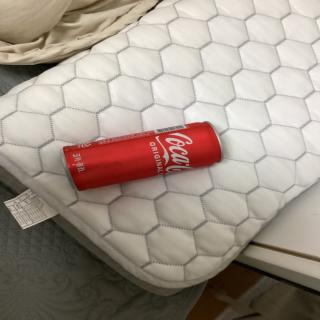cocacola: (57, 118, 229, 194)
